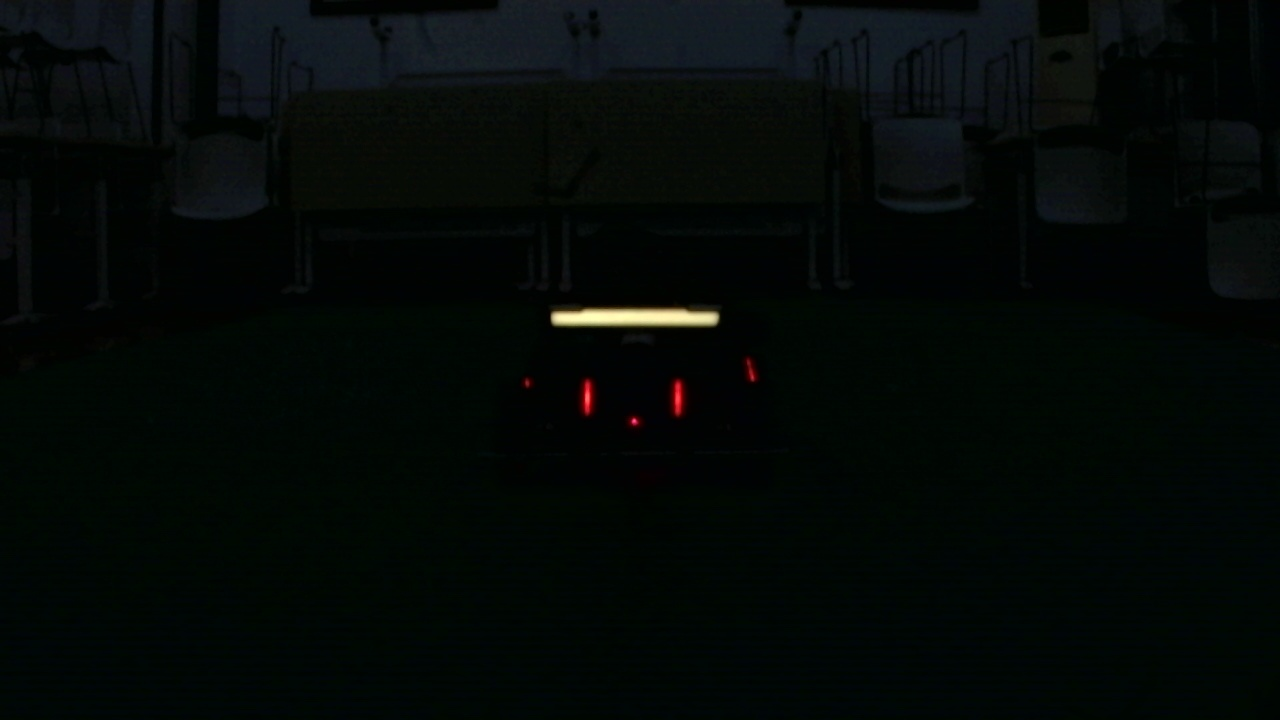lamp: (669, 379, 684, 419), (580, 376, 594, 418)
pair1: (581, 381, 684, 416)
